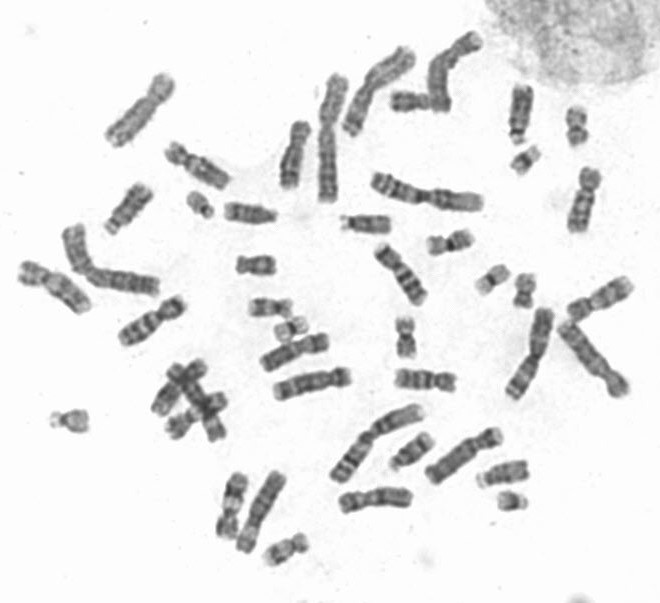chromosomes: (56, 219, 169, 308), (323, 398, 432, 490), (338, 39, 419, 141), (96, 69, 179, 153), (557, 317, 634, 403), (501, 302, 560, 404), (234, 469, 293, 569), (310, 72, 352, 208), (426, 28, 490, 115), (364, 172, 487, 217), (163, 362, 229, 445), (424, 426, 508, 486), (17, 257, 93, 320), (116, 294, 194, 354), (141, 358, 212, 420), (562, 268, 638, 325), (369, 239, 430, 310), (263, 364, 355, 411), (251, 331, 333, 383), (163, 137, 238, 192), (163, 390, 234, 441), (207, 466, 248, 552), (564, 162, 606, 237), (273, 119, 316, 192), (104, 180, 155, 240), (257, 525, 317, 573), (334, 487, 418, 517), (471, 455, 535, 494), (383, 432, 437, 475), (389, 364, 463, 395), (41, 400, 95, 439), (421, 226, 481, 260), (220, 201, 281, 233), (509, 82, 538, 147), (386, 89, 455, 116), (469, 259, 515, 299), (562, 98, 593, 154), (335, 211, 393, 238), (390, 312, 420, 361), (510, 268, 539, 317), (505, 144, 546, 177), (266, 316, 312, 345), (184, 188, 217, 228), (231, 253, 282, 278), (245, 297, 298, 318), (494, 493, 530, 520)
